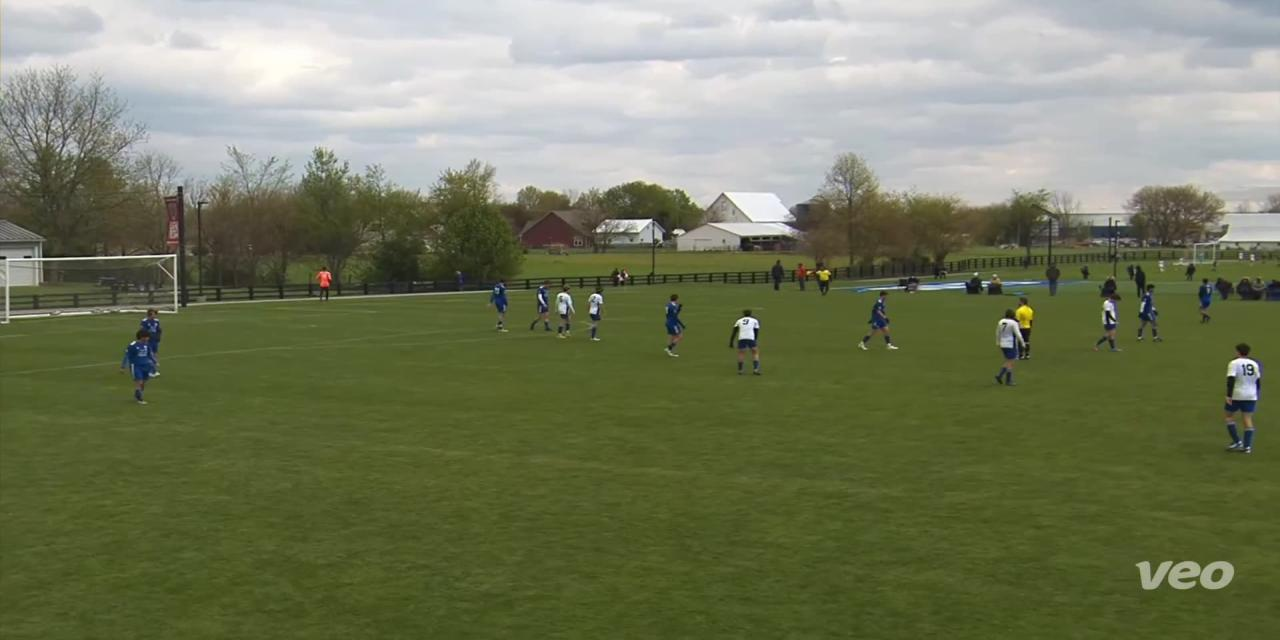goal: (0, 250, 200, 323)
